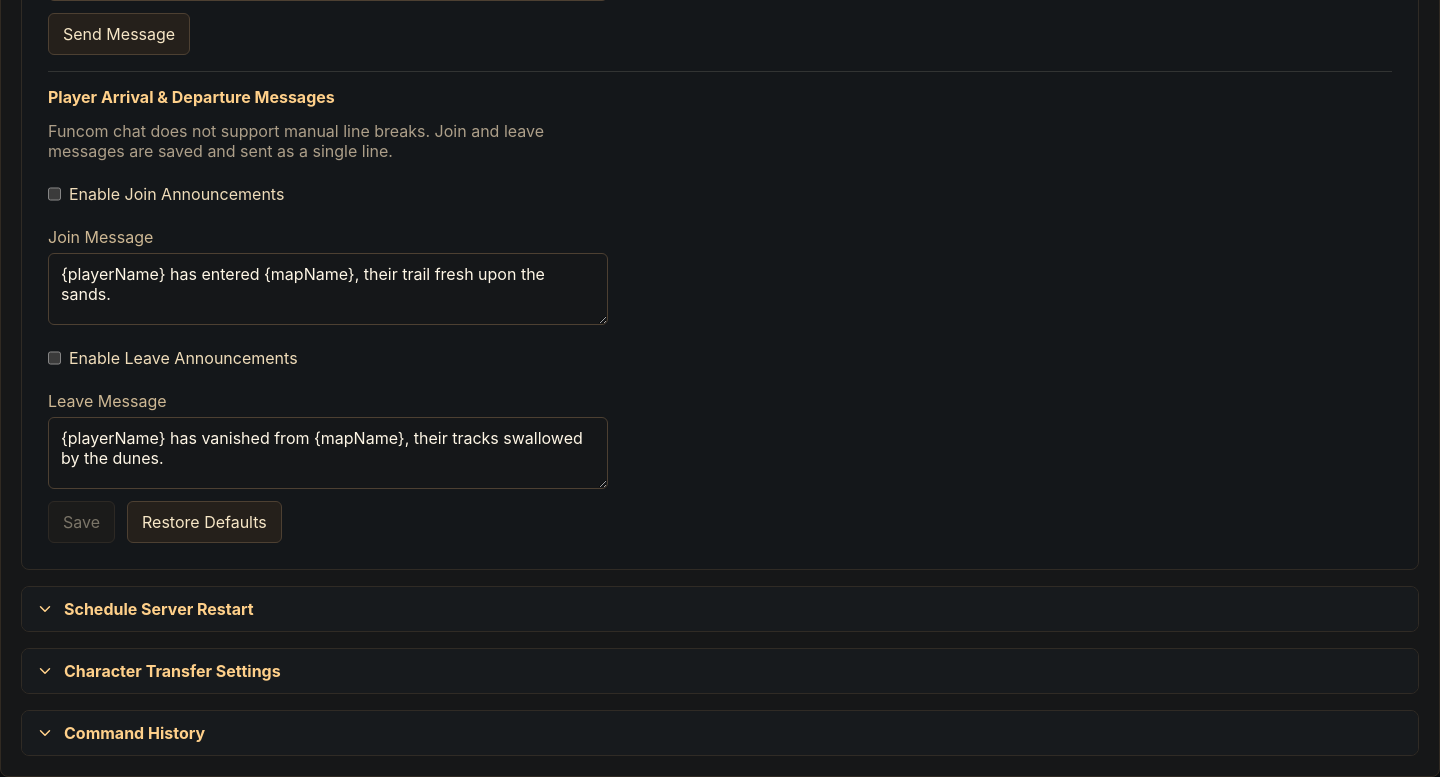
Test: Character transfer live settings › applies changed settings directly without polling a restart task
The image size is (1440, 777).
(page scrolled)
Click the button with aria-label "Expand Character Transfer Settings": [172, 671] box 22,649 -> 1418,693
(page scrolled)
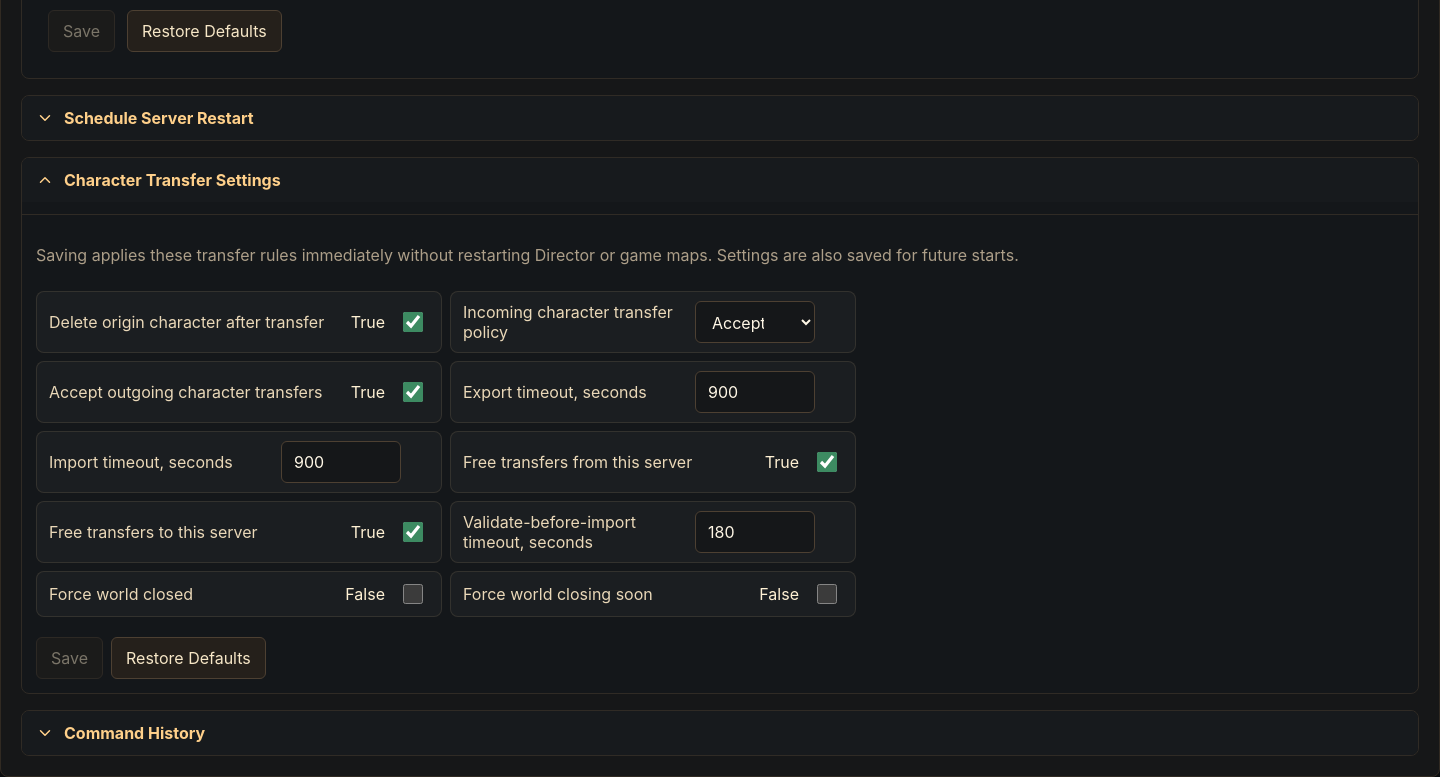
Check: the number field labelled "Export timeout, seconds" is shown
Replace the text in the number field labelled "Export timeout, seconds" with "1800": [755, 392] box 695,371 -> 815,413
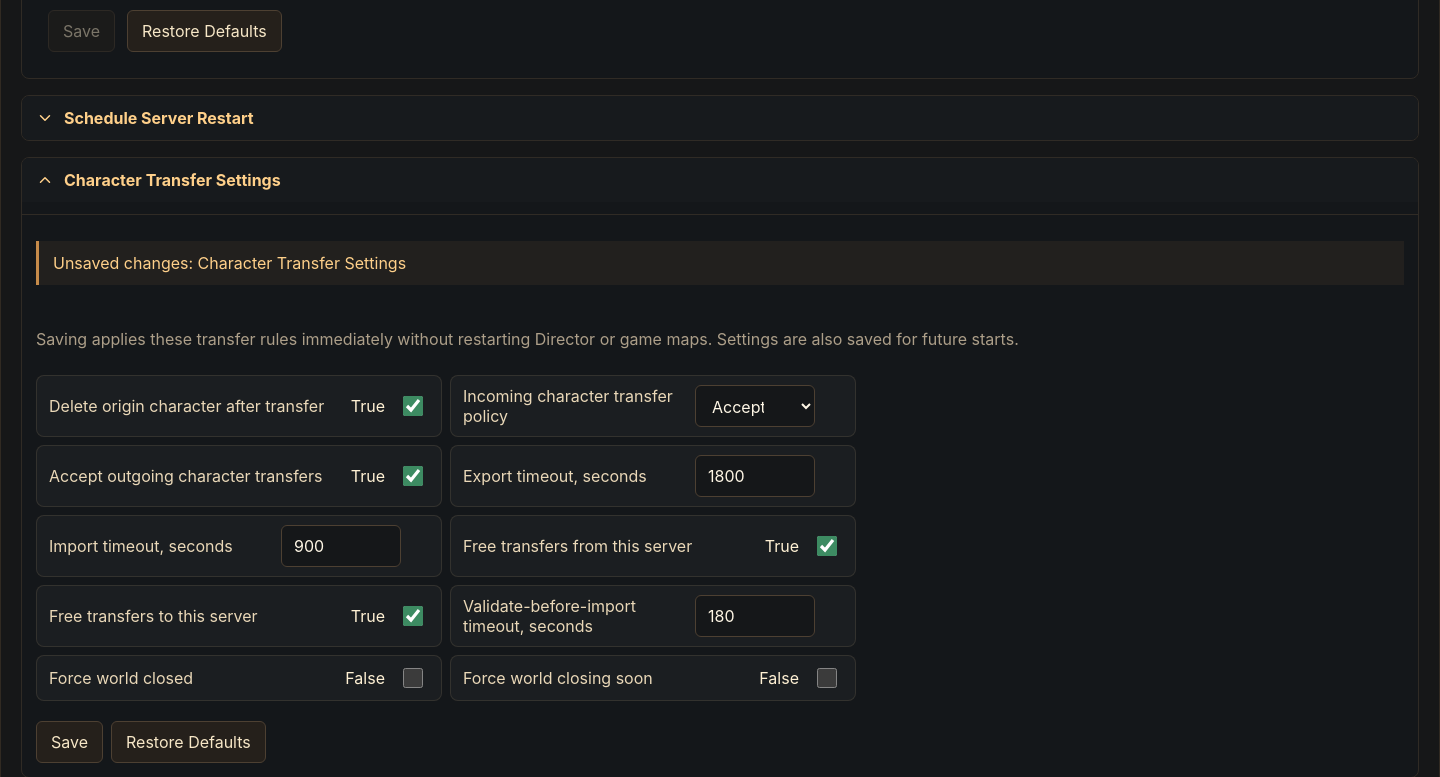
Click the button "Save" below "Force world closed": [70, 742] box 36,721 -> 103,763
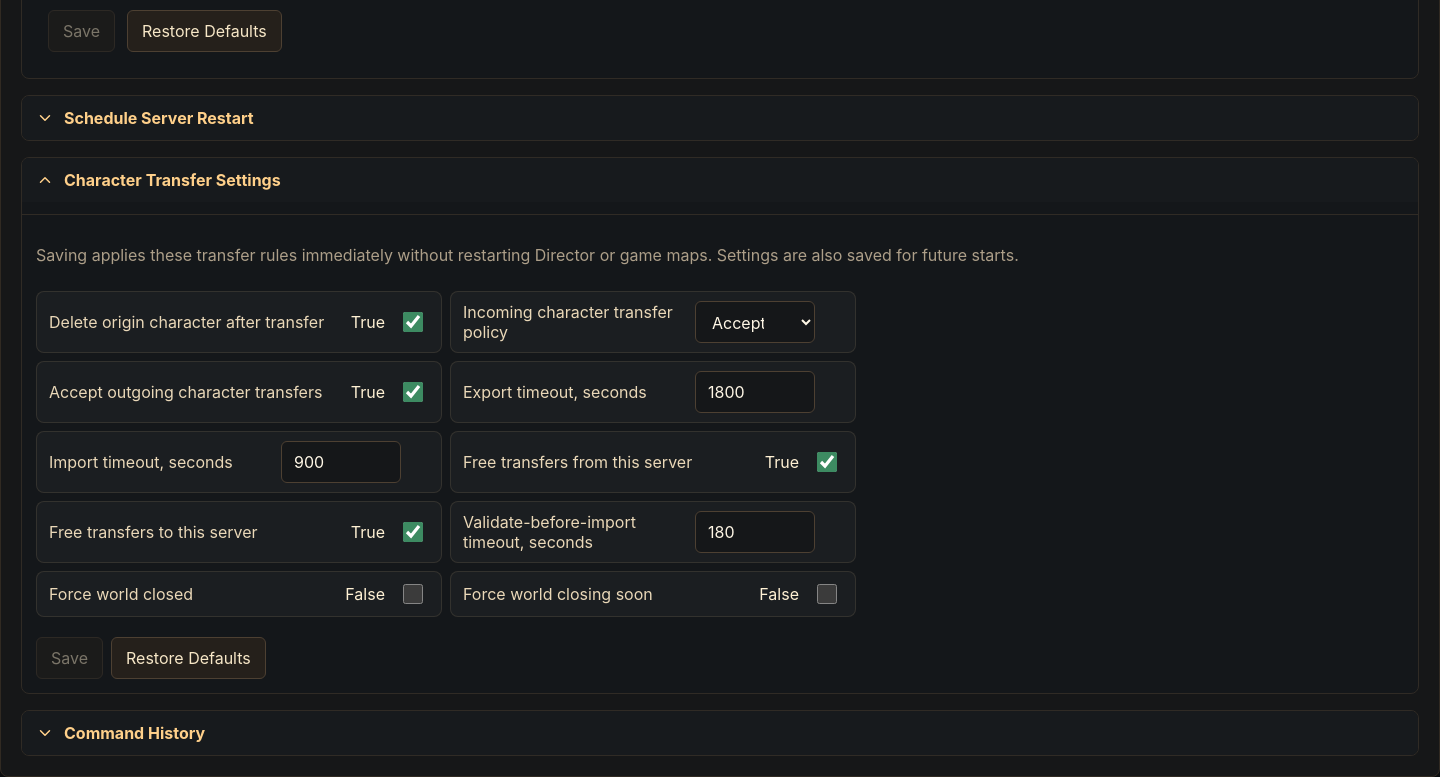
Check: the button "Save" below "Force world closed" is disabled, box 36,637 -> 103,679
